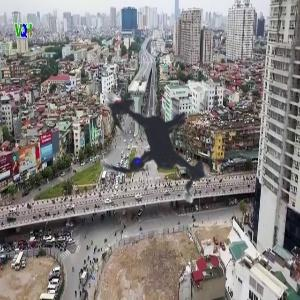drone: (40, 26, 278, 264)
